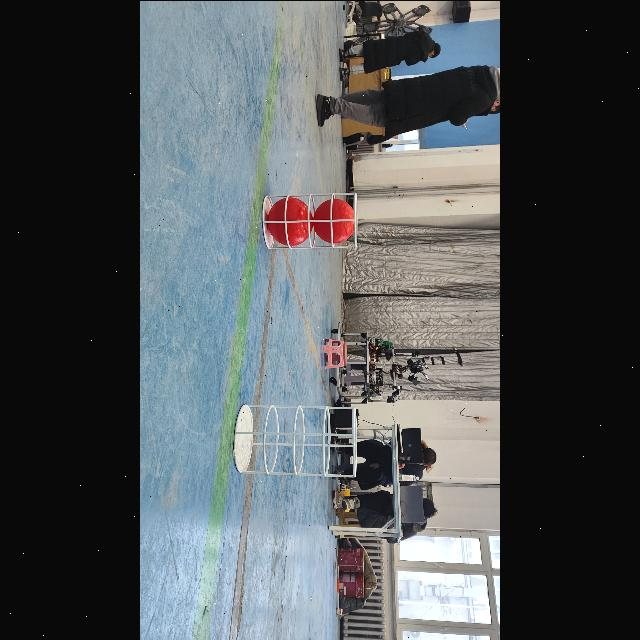R: (268, 196, 314, 244), (312, 198, 356, 242)
S: (230, 398, 364, 482), (256, 188, 362, 252)
